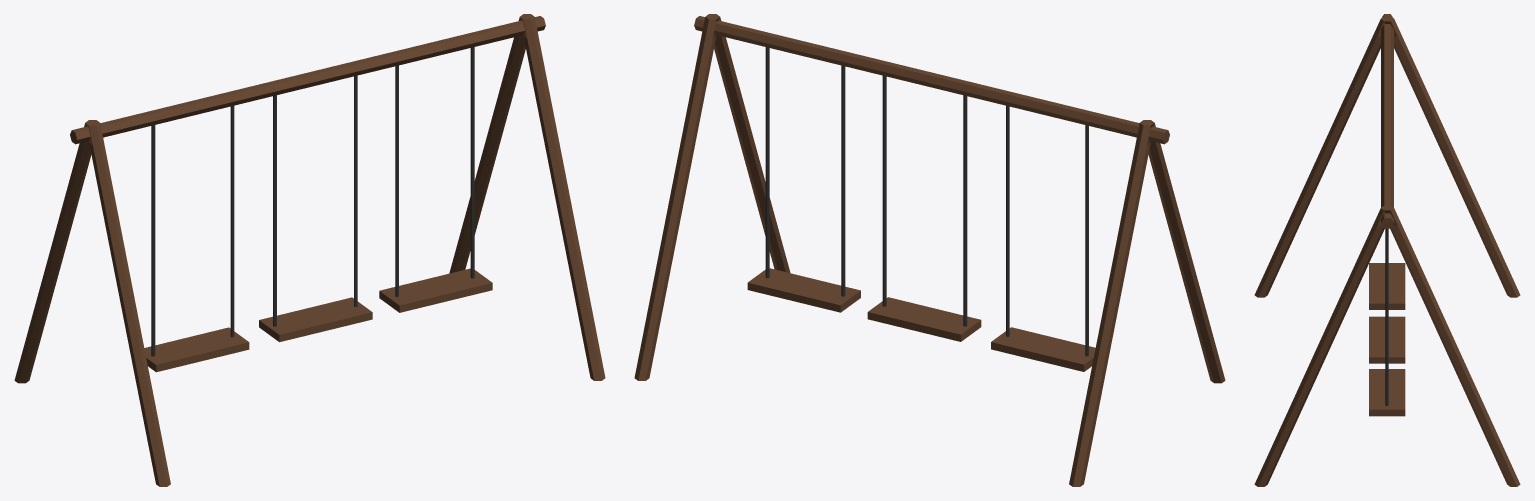
Rendered from Gangorra.fbx.
3 renders of one model, left to right at view 1: azimuth 30°, elevation 25°; view 2: azimuth 150°, elevation 25°; view 3: azimuth 270°, elevation 25°, orthographic. The views are drawn at different scales.
Visible parts, largest first — view 1: Cylinder.005; view 2: Cylinder.005; view 3: Cylinder.005.
Boxes of the visible parts, left/top/right/bottom form: Cylinder.005: left=14, top=14, right=605, bottom=486; Cylinder.005: left=634, top=14, right=1225, bottom=486; Cylinder.005: left=1254, top=14, right=1520, bottom=486.
Size of the model in its own units: 682 by 431 by 376.
